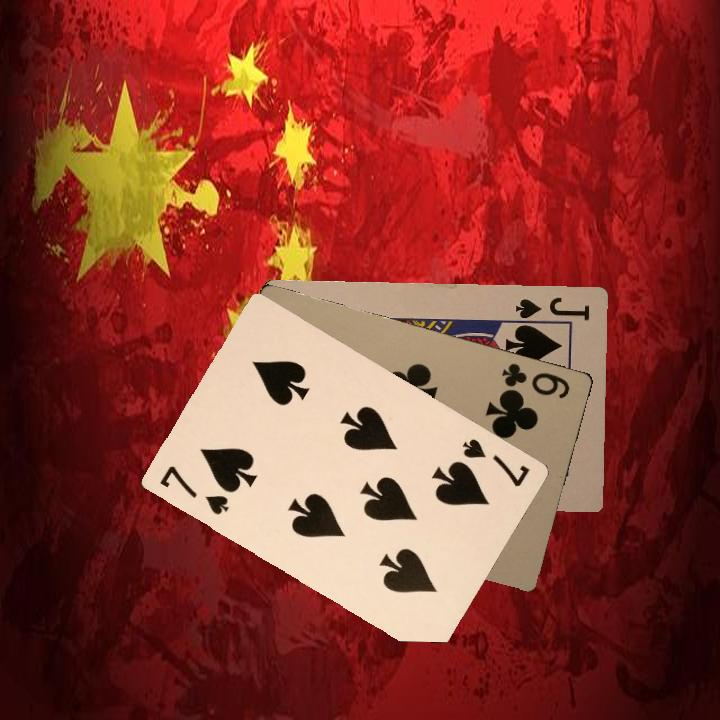6c: (497, 359, 573, 401)
7s: (155, 461, 231, 518), (458, 434, 532, 490)
Js: (513, 293, 593, 329)
